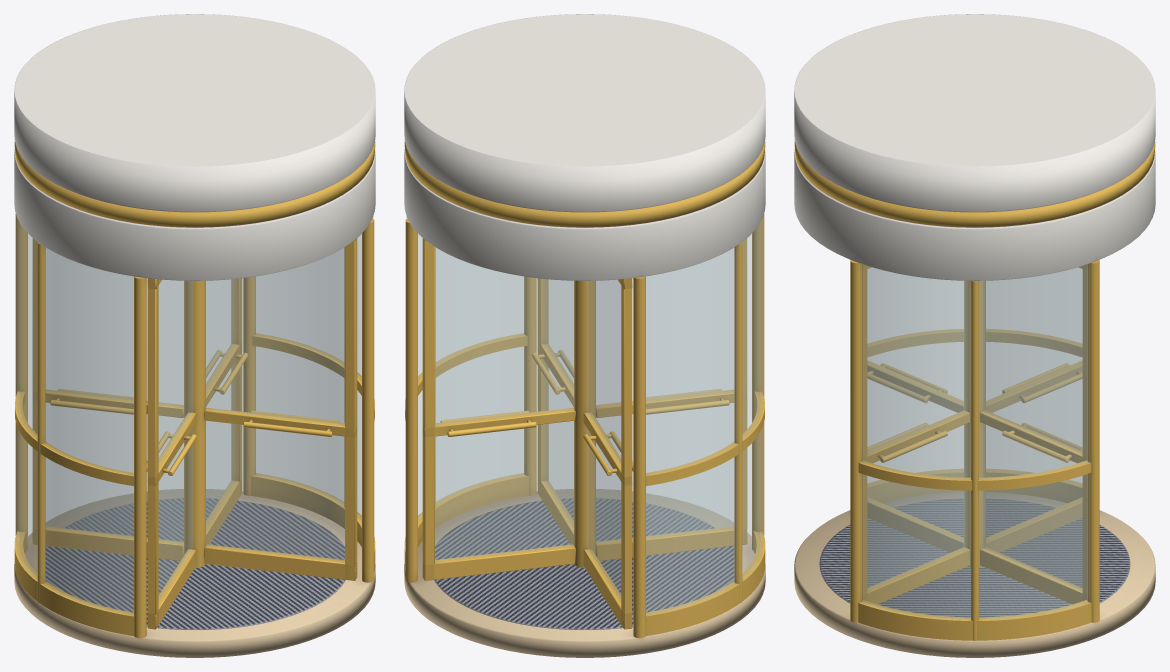
File: revolving-door.glb
3 views of the same model, side by side, from view 1: azimuth 30°, elevation 25°; view 2: azimuth 150°, elevation 25°; view 3: azimuth 270°, elevation 25° (orthographic).
Visible parts, largest first — view 1: revolving-door_body, revolving-door_glass_wings, revolving-door_glass_drum, revolving-door_wings; view 2: revolving-door_body, revolving-door_glass_wings, revolving-door_glass_drum, revolving-door_wings; view 3: revolving-door_body, revolving-door_glass_drum, revolving-door_glass_wings, revolving-door_wings.
Part boxes in pixels (x1=…): revolving-door_body: x1=14, y1=14, x2=375, y2=657; revolving-door_glass_wings: x1=46, y1=247, x2=344, y2=601; revolving-door_glass_drum: x1=16, y1=216, x2=373, y2=615; revolving-door_wings: x1=32, y1=238, x2=357, y2=629; revolving-door_body: x1=404, y1=14, x2=765, y2=657; revolving-door_glass_wings: x1=435, y1=247, x2=733, y2=601; revolving-door_glass_drum: x1=406, y1=216, x2=763, y2=615; revolving-door_wings: x1=422, y1=238, x2=747, y2=629; revolving-door_body: x1=794, y1=14, x2=1155, y2=657; revolving-door_glass_drum: x1=860, y1=264, x2=1089, y2=619; revolving-door_glass_wings: x1=867, y1=267, x2=1082, y2=589; revolving-door_wings: x1=863, y1=264, x2=1086, y2=604.
Bounding box in the file's own units: 2 × 3 × 2.
Materials: 4 (2 with a texture image).
